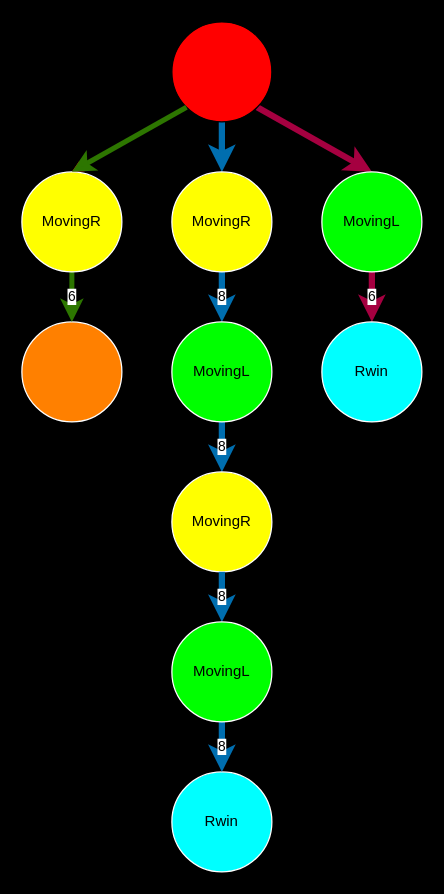
Image size: 444x894. Some labels were removed from this diagram. Each missing label, with the centre of its shape:
Lwin: the point at 71,371
Start: the point at 221,71
